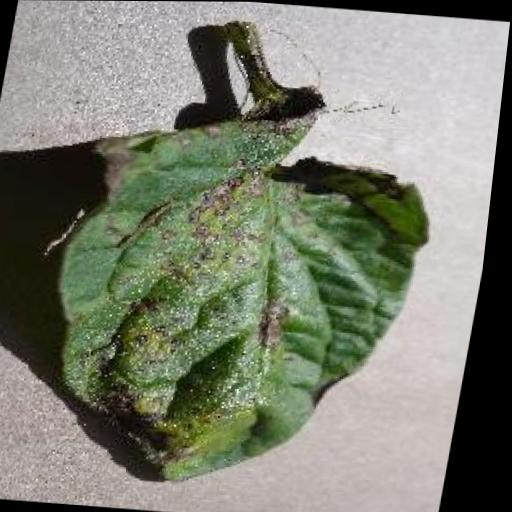Early Blight: (31, 86, 461, 495)
